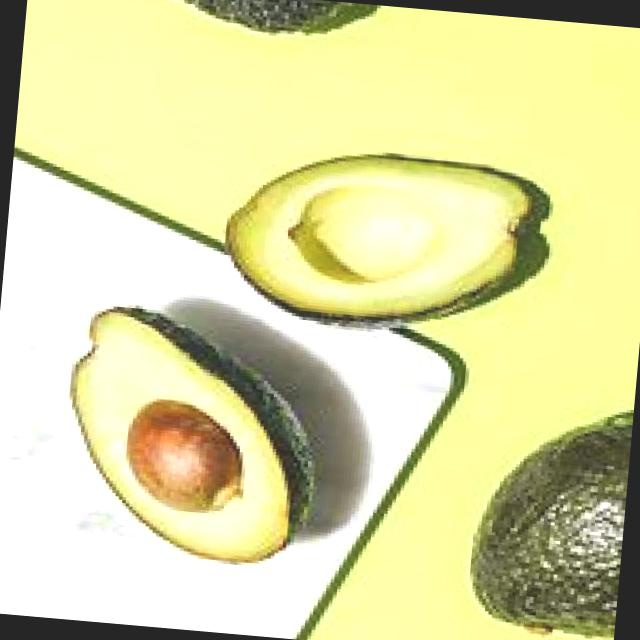avocado: (206, 120, 561, 356), (46, 296, 332, 580)
